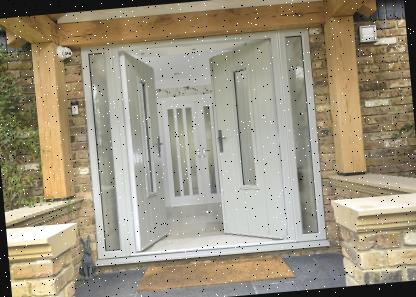door: (76, 22, 330, 265)
